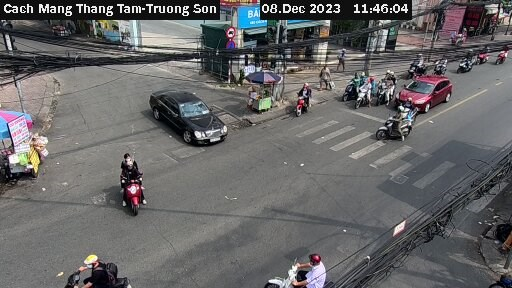car: (148, 85, 231, 148), (398, 73, 455, 114)
motorbike: (269, 247, 337, 288), (109, 162, 161, 215), (59, 253, 134, 288), (290, 86, 326, 121), (453, 48, 478, 77), (404, 51, 430, 78), (348, 80, 372, 108), (373, 78, 395, 106), (430, 52, 452, 77), (476, 39, 495, 66), (496, 39, 512, 71), (339, 72, 358, 97)
